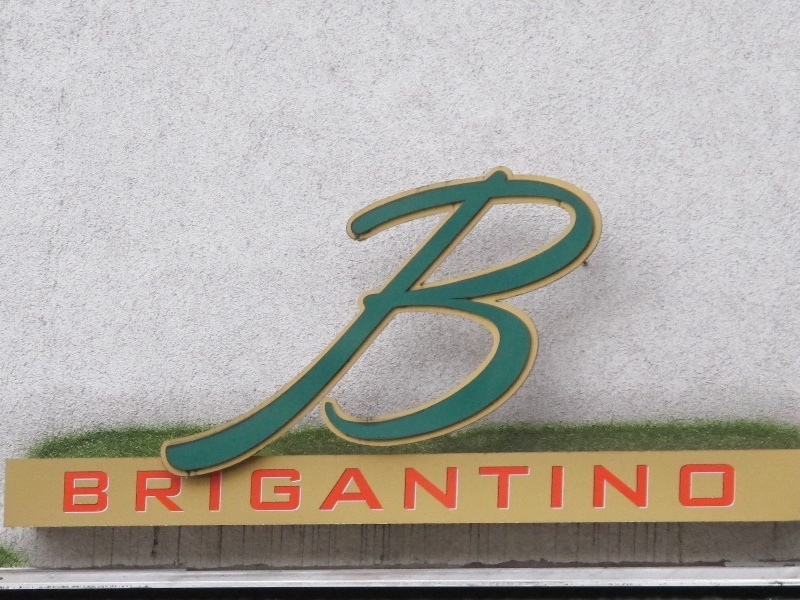text: (401, 166, 416, 502), (417, 166, 432, 502), (433, 166, 448, 502), (449, 166, 464, 502), (465, 166, 480, 502), (481, 166, 496, 502), (497, 166, 512, 502), (513, 166, 528, 502), (529, 166, 544, 502), (545, 166, 560, 502), (561, 166, 576, 502), (577, 166, 592, 502), (593, 166, 608, 502), (609, 166, 624, 502), (625, 166, 640, 502), (386, 166, 400, 502), (65, 465, 80, 515), (81, 465, 96, 515), (97, 465, 112, 515), (113, 465, 128, 515), (129, 465, 144, 515), (145, 465, 160, 515), (161, 465, 176, 515), (177, 465, 192, 515), (193, 465, 208, 515), (209, 465, 224, 515), (225, 465, 240, 515), (241, 465, 256, 515), (257, 465, 272, 515), (273, 465, 288, 515), (289, 465, 304, 515), (305, 465, 320, 515), (321, 465, 336, 515), (337, 465, 352, 515), (353, 465, 368, 515), (369, 465, 384, 515), (385, 465, 400, 515), (401, 465, 416, 515), (417, 465, 432, 515), (433, 465, 448, 515), (449, 465, 464, 515), (465, 465, 480, 515), (481, 465, 496, 515), (497, 465, 512, 515), (513, 465, 528, 515), (529, 465, 544, 515), (545, 465, 560, 515), (561, 465, 576, 515), (577, 465, 592, 515), (593, 465, 608, 515), (609, 465, 624, 515), (625, 465, 640, 515), (641, 465, 656, 515), (657, 465, 672, 515), (673, 465, 688, 515), (689, 465, 704, 515), (705, 465, 720, 515), (721, 465, 736, 515), (641, 166, 643, 502)
